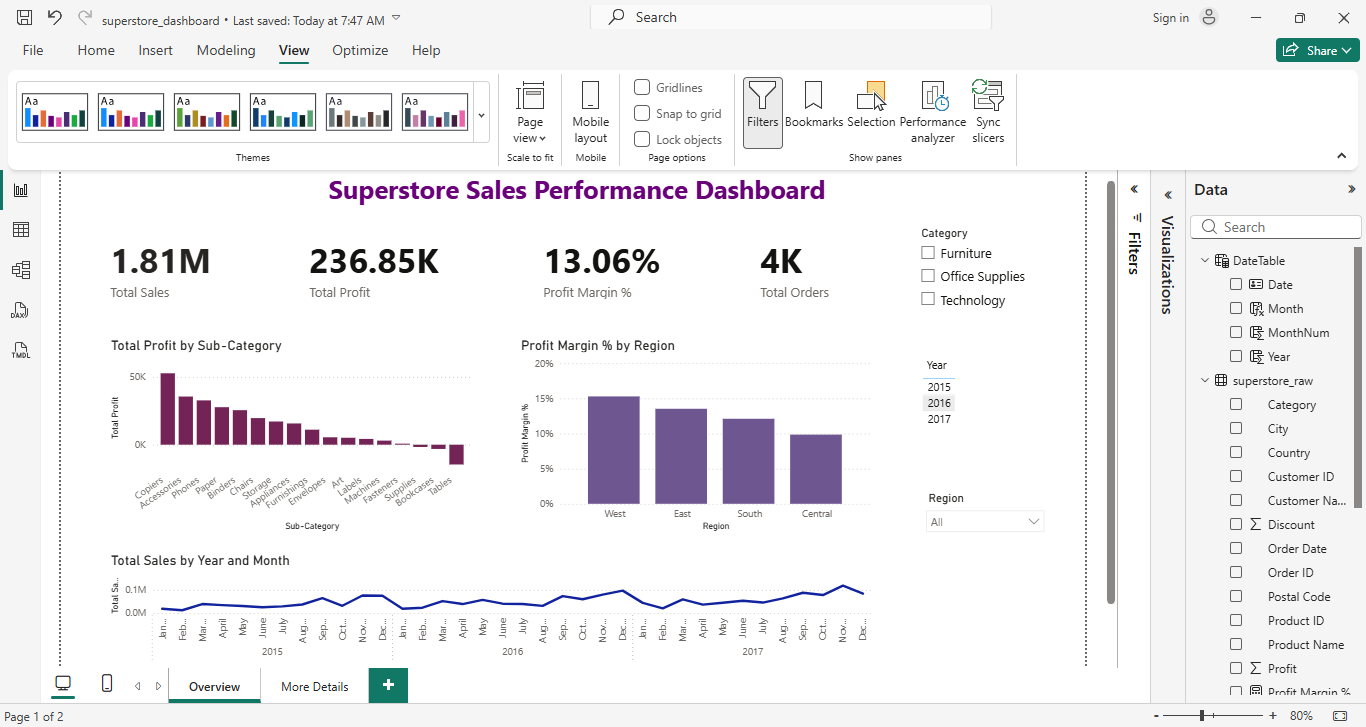

This screenshot's page, from the dashboard's own definition file:
{"tool":"powerbi","page":{"name":"Overview","canvas":[1280,720],"ordinal":0},"visuals":[{"type":"textbox","box":[10.4,0,1269.6,102.2],"z":0},{"type":"cardVisual","fields":{"Data":["superstore_raw.Total Sales"]},"box":[32.5,70,195,112.5],"z":1000},{"type":"cardVisual","fields":{"Data":["superstore_raw.Total Profit"]},"box":[281.2,70,235,112.5],"z":2000},{"type":"cardVisual","fields":{"Data":["superstore_raw.Profit Margin %"]},"box":[573.8,70,208.8,112.5],"z":3000},{"type":"cardVisual","fields":{"Data":["superstore_raw.Total Orders"]},"box":[845,70,172.5,112.5],"z":4000},{"type":"clusteredColumnChart","fields":{"Y":["superstore_raw.Total Profit"],"Category":["superstore_raw.Sub-Category"]},"box":[57.5,212.5,460,247.5],"z":5000},{"type":"clusteredColumnChart","fields":{"Category":["superstore_raw.Region"],"Y":["superstore_raw.Profit Margin %"]},"box":[570,212.5,447.5,247.5],"z":6000},{"type":"slicer","fields":{"Values":["DateTable.Year"]},"box":[502.5,527.5,13.2,89.6],"z":7000},{"type":"tableEx","fields":{"Values":["DateTable.Year"]},"box":[1071.2,232.5,176.2,117.5],"z":8000},{"type":"slicer","fields":{"Values":["superstore_raw.Region"]},"box":[1071.2,401.2,167.5,58.8],"z":9000},{"type":"slicer","fields":{"Values":["superstore_raw.Category"]},"box":[1062.5,70,171.2,142.5],"z":10000},{"type":"lineChart","fields":{"Y":["superstore_raw.Total Sales"],"Category":["DateTable.Year","DateTable.Month"]},"box":[57.5,481.2,960,146.2],"z":11000}]}

Visuals, with their boxes on the page's 1280x720 design canvas (x1, y1, x2, y2). These are canvas units, not pixel positions in the 1366x727 screenshot, which may show the page scaled, cropped or inside an application window:
textbox: detection(10, 0, 1280, 102)
cardVisual - superstore_raw.Total Sales: detection(32, 70, 228, 182)
cardVisual - superstore_raw.Total Profit: detection(281, 70, 516, 182)
cardVisual - superstore_raw.Profit Margin %: detection(574, 70, 783, 182)
cardVisual - superstore_raw.Total Orders: detection(845, 70, 1018, 182)
clusteredColumnChart - superstore_raw.Total Profit x superstore_raw.Sub-Category: detection(58, 212, 518, 460)
clusteredColumnChart - superstore_raw.Region x superstore_raw.Profit Margin %: detection(570, 212, 1018, 460)
slicer - DateTable.Year: detection(502, 528, 516, 617)
tableEx - DateTable.Year: detection(1071, 232, 1247, 350)
slicer - superstore_raw.Region: detection(1071, 401, 1239, 460)
slicer - superstore_raw.Category: detection(1062, 70, 1234, 212)
lineChart - superstore_raw.Total Sales x DateTable.Year: detection(58, 481, 1018, 627)
